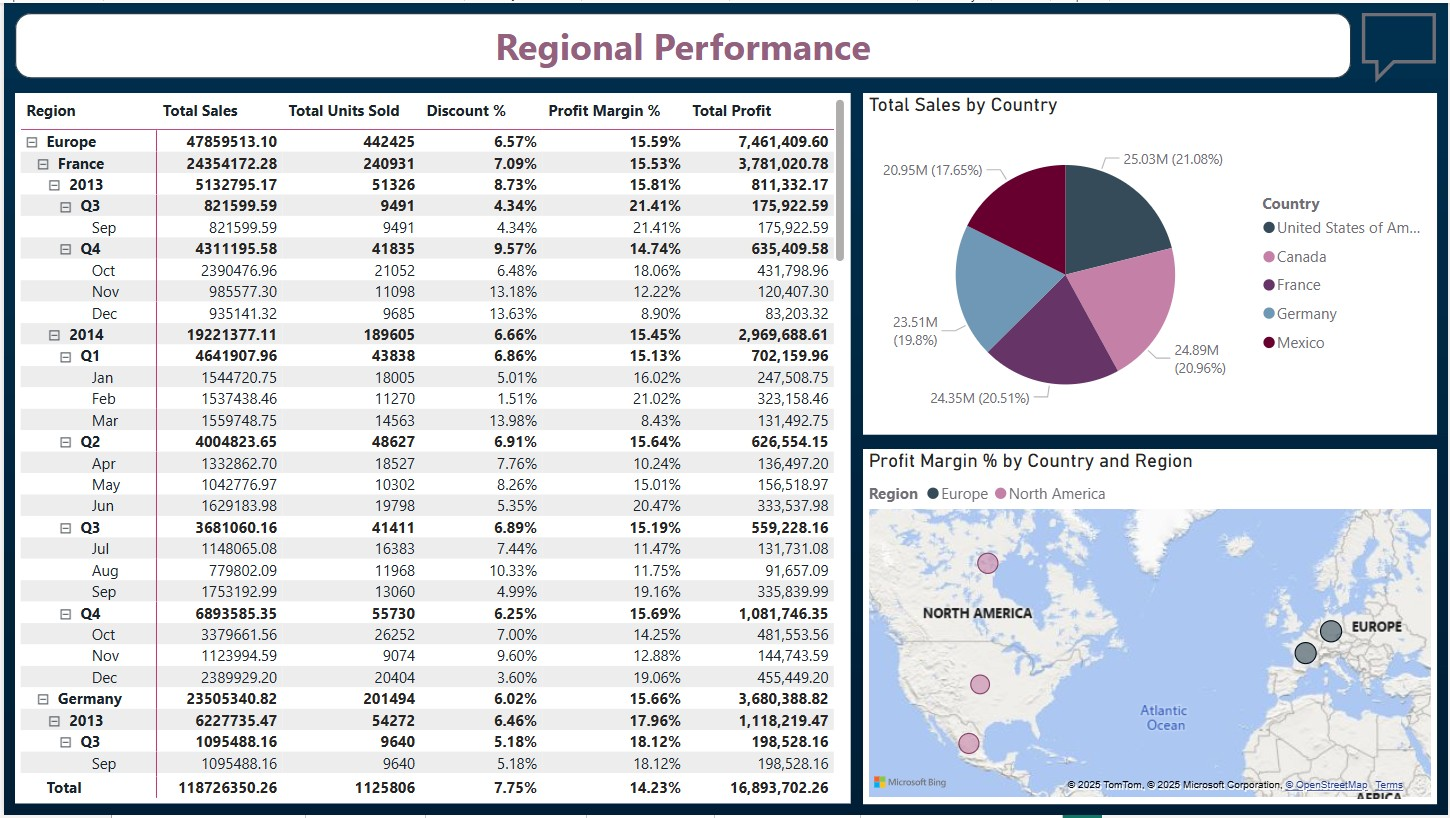

The dashboard page shown, as its layout file describes it:
{"tool":"powerbi","page":{"name":"Regional Performance","canvas":[1280,720],"ordinal":2},"visuals":[{"type":"shape","box":[9.7,8.4,1184.7,57.9],"z":0},{"type":"actionButton","box":[1196.8,0,83.2,79.6],"z":1000},{"type":"pieChart","fields":{"Category":["FinanceData.Country"],"Y":["FinanceData.Total Sales"]},"box":[761.7,79.8,509,303.3],"z":2000},{"type":"map","fields":{"Series":["FinanceData.Region"],"Category":["FinanceData.Country"],"Size":["FinanceData.Profit Margin %"]},"box":[761.7,395.5,509,314.8],"z":3000},{"type":"pivotTable","fields":{"Rows":["FinanceData.Region","FinanceData.Country","Dates.Year Hierarchy.Year","Dates.Year Hierarchy.Quarter","Dates.Year Hierarchy.Month"],"Values":["FinanceData.Total Sales","FinanceData.Total Units Sold","FinanceData.Discount %","FinanceData.Profit Margin %","FinanceData.Total Profit"]},"box":[9.8,79.8,741.3,630.4],"z":4000}]}

Visuals, with their boxes in screenshot pixels (x1, y1, x2, y2), scaled from the page's 1280x720 canvas onto the 1450x818 screenshot:
shape: Rect(11, 10, 1353, 75)
actionButton: Rect(1356, 0, 1449, 90)
pieChart - FinanceData.Country x FinanceData.Total Sales: Rect(863, 91, 1439, 435)
map - FinanceData.Region x FinanceData.Country: Rect(863, 449, 1439, 807)
pivotTable - FinanceData.Region x FinanceData.Country: Rect(11, 91, 851, 807)
